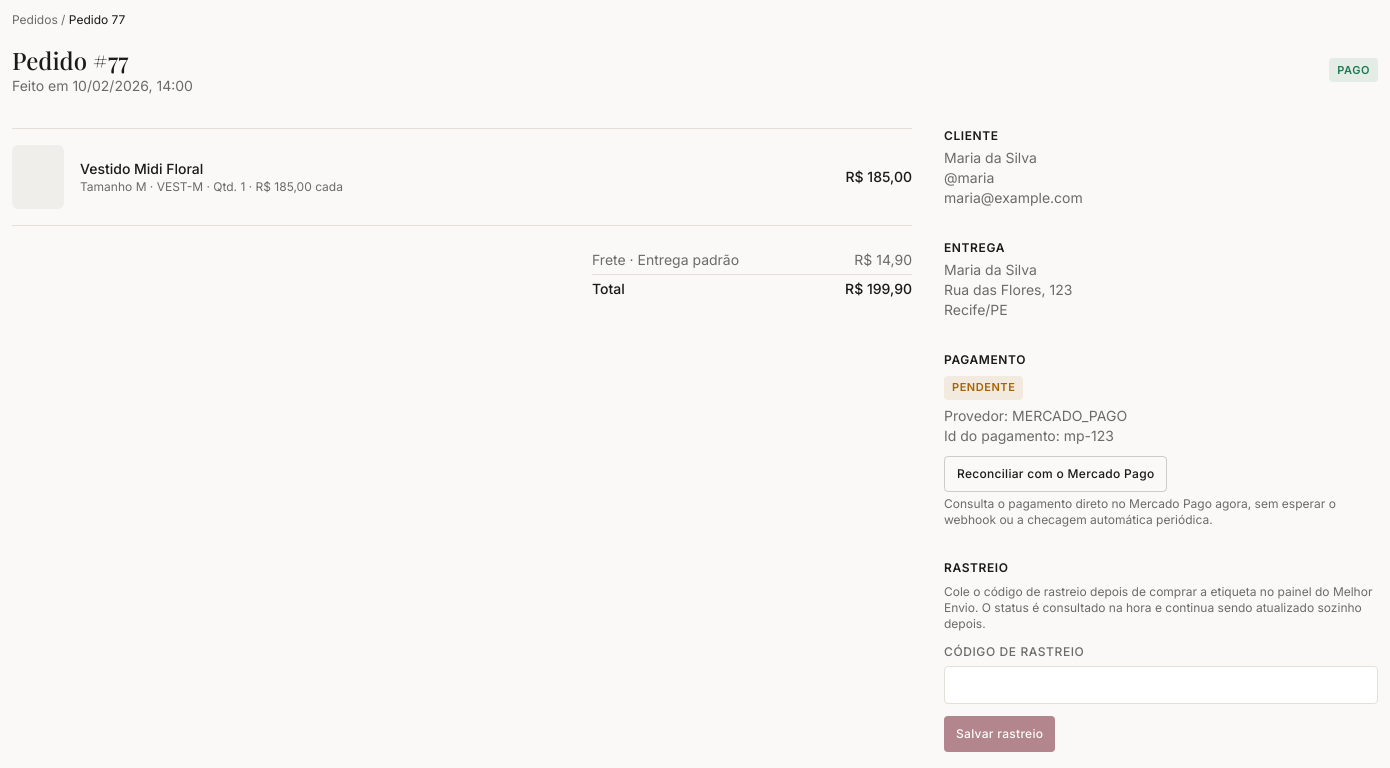
it: AdminPedidoDetalhe › pagamento Mercado Pago pendente mostra botão de reconciliar agora
Expected: the heading "Pedido #77" is shown, [12,44,128,76]
Step 1. Click the button "Reconciliar com o Mercado Pago" → (1056, 474), box [944,456,1168,492]
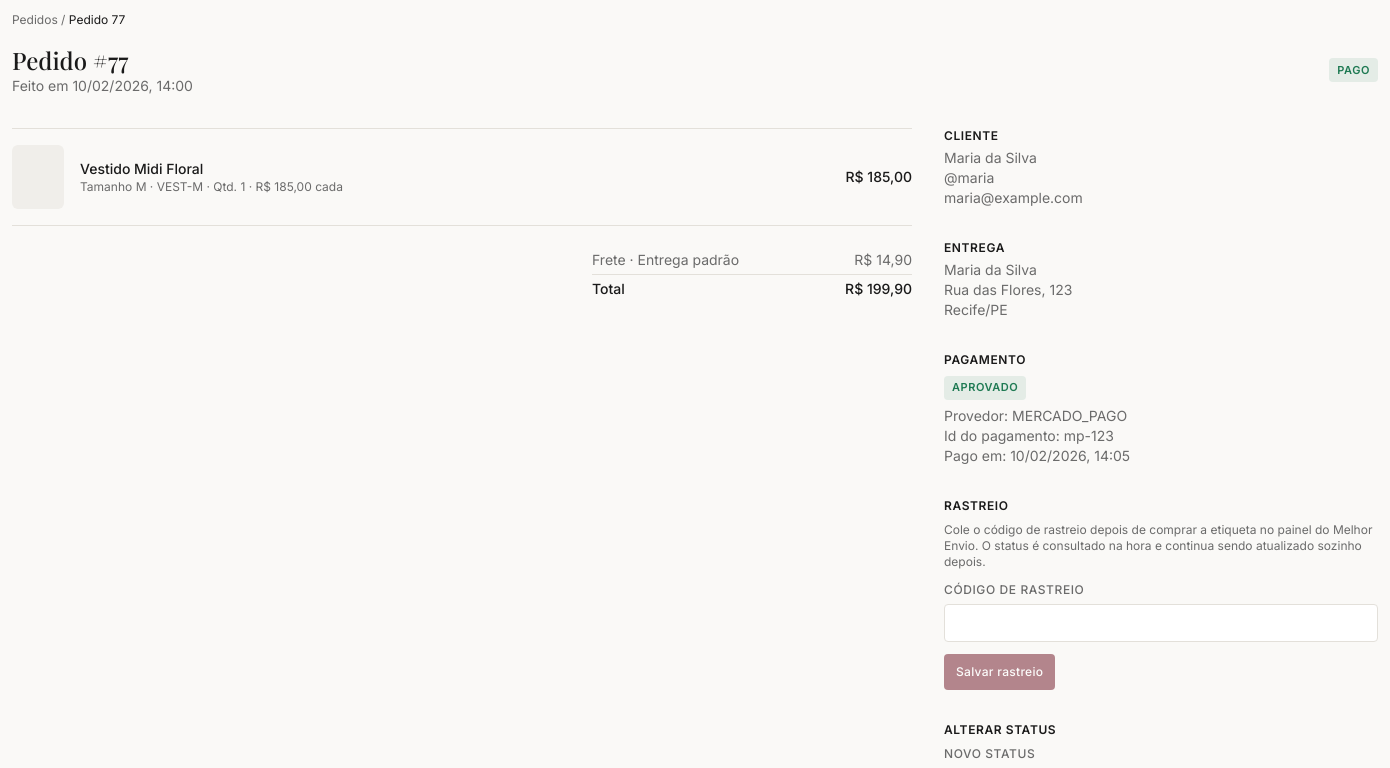
Expected: the text "Aprovado" is shown, [944,376,1026,400]
